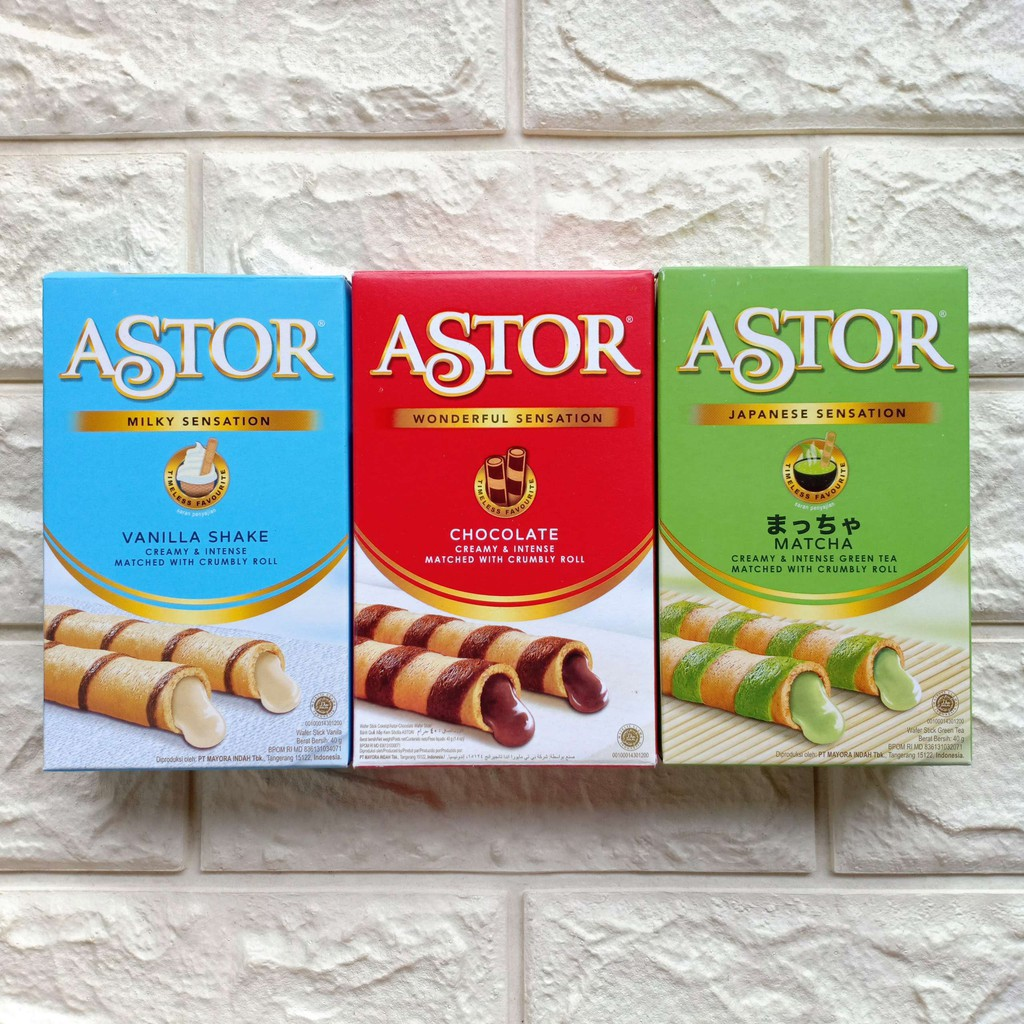Astor Chocolate (40g): (337, 252, 659, 782)
